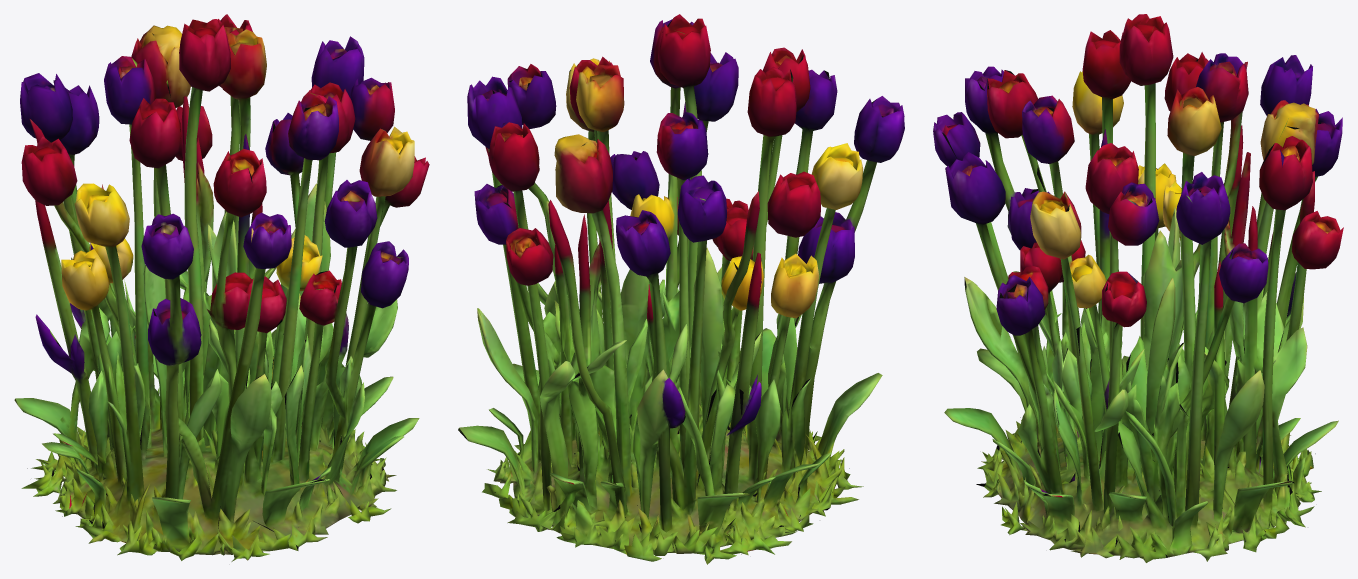
The model's file is Tulip_Cluster.fbx.
3 views of the same model, side by side, from view 1: azimuth 30°, elevation 25°; view 2: azimuth 150°, elevation 25°; view 3: azimuth 270°, elevation 25° (orthographic).
Parts seen in each view (by area): view 1: Tulip_Cluster_LOD0; view 2: Tulip_Cluster_LOD0; view 3: Tulip_Cluster_LOD0.
Part boxes in pixels (x1,y1,x2,y2): Tulip_Cluster_LOD0: (14,14,429,561); Tulip_Cluster_LOD0: (458,14,904,564); Tulip_Cluster_LOD0: (933,14,1343,562).
Size of what is drawn, in the model's own units: 1.55 by 1.91 by 1.54.
1 material, 1 textured.
